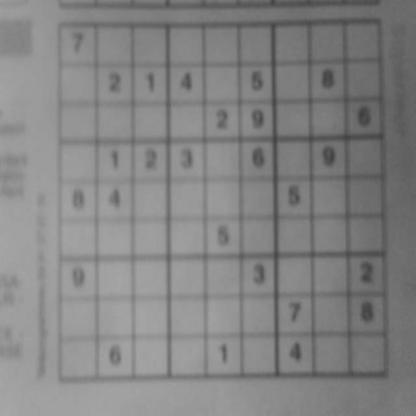sudoku: (55, 12, 391, 389)
